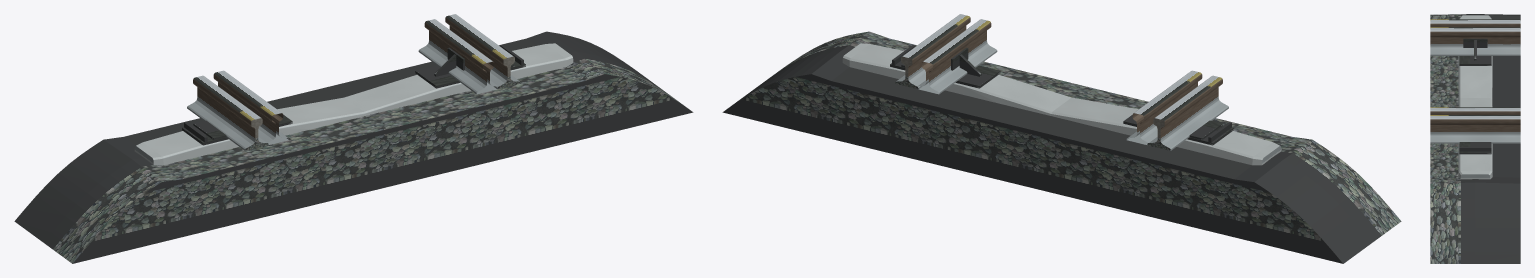
Rendered from outer_guard_low.obj.
The picture shows the model from 3 angles, left to right: view 1: azimuth 30°, elevation 25°; view 2: azimuth 150°, elevation 25°; view 3: azimuth 270°, elevation 25°; orthographic projection. The views are drawn at different scales.
Parts seen in each view (by area): view 1: ballast, sleeper, rail_left, outer_guard_right, outer_guard_left, rail_right, outer_fastener_right, fastener_left; view 2: ballast, sleeper, rail_left, outer_guard_right, outer_guard_left, rail_right, outer_fastener_right, fastener_left; view 3: ballast, sleeper, rail_right, outer_guard_left, rail_left, outer_guard_right, outer_fastener_left, fastener_right, outer_fastener_right.
Boxes of the visible parts, x1,y1,x2,y2 form: ballast: (14, 31, 693, 263); sleeper: (134, 43, 573, 165); rail_left: (187, 75, 266, 150); outer_guard_right: (418, 19, 498, 94); outer_guard_left: (213, 70, 289, 144); rail_right: (445, 14, 519, 88); outer_fastener_right: (415, 47, 525, 88); fastener_left: (184, 120, 226, 142); ballast: (722, 31, 1401, 263); sleeper: (842, 43, 1281, 165); rail_left: (1149, 75, 1228, 150); outer_guard_right: (917, 19, 997, 94); outer_guard_left: (1126, 70, 1202, 144); rail_right: (896, 14, 970, 88); outer_fastener_right: (890, 47, 1000, 88); fastener_left: (1189, 120, 1231, 142); ballast: (1430, 14, 1520, 263); sleeper: (1458, 15, 1492, 179); rail_right: (1430, 115, 1520, 143); outer_guard_left: (1430, 27, 1520, 55); rail_left: (1430, 19, 1520, 27); outer_guard_right: (1430, 107, 1520, 114); outer_fastener_left: (1459, 38, 1491, 65); fastener_right: (1459, 142, 1491, 151); outer_fastener_right: (1459, 144, 1491, 154).
Size of the model in its own units: 3.7 by 0.5683 by 0.6.
